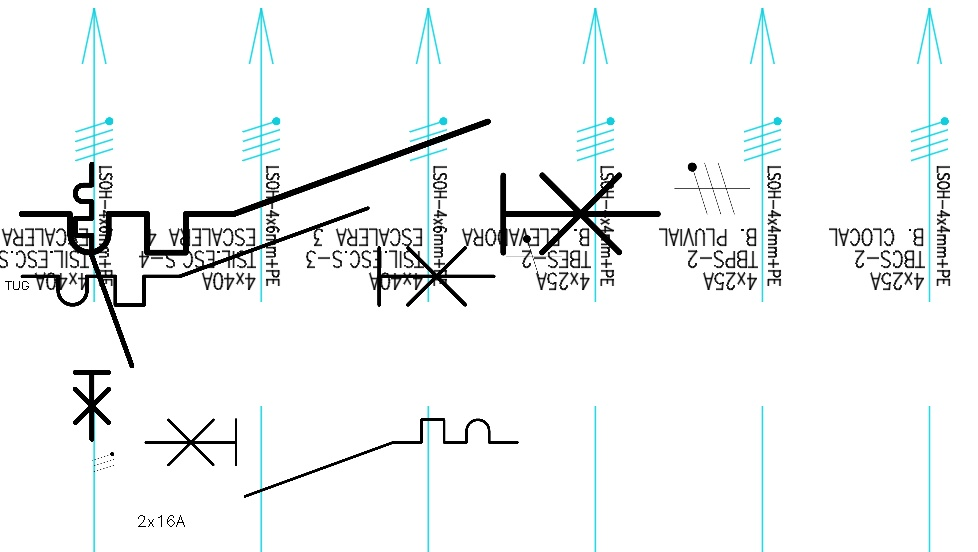interruptor_termomagnetico: (5, 105, 674, 269), (10, 196, 506, 317), (136, 410, 527, 505), (68, 157, 139, 447)
